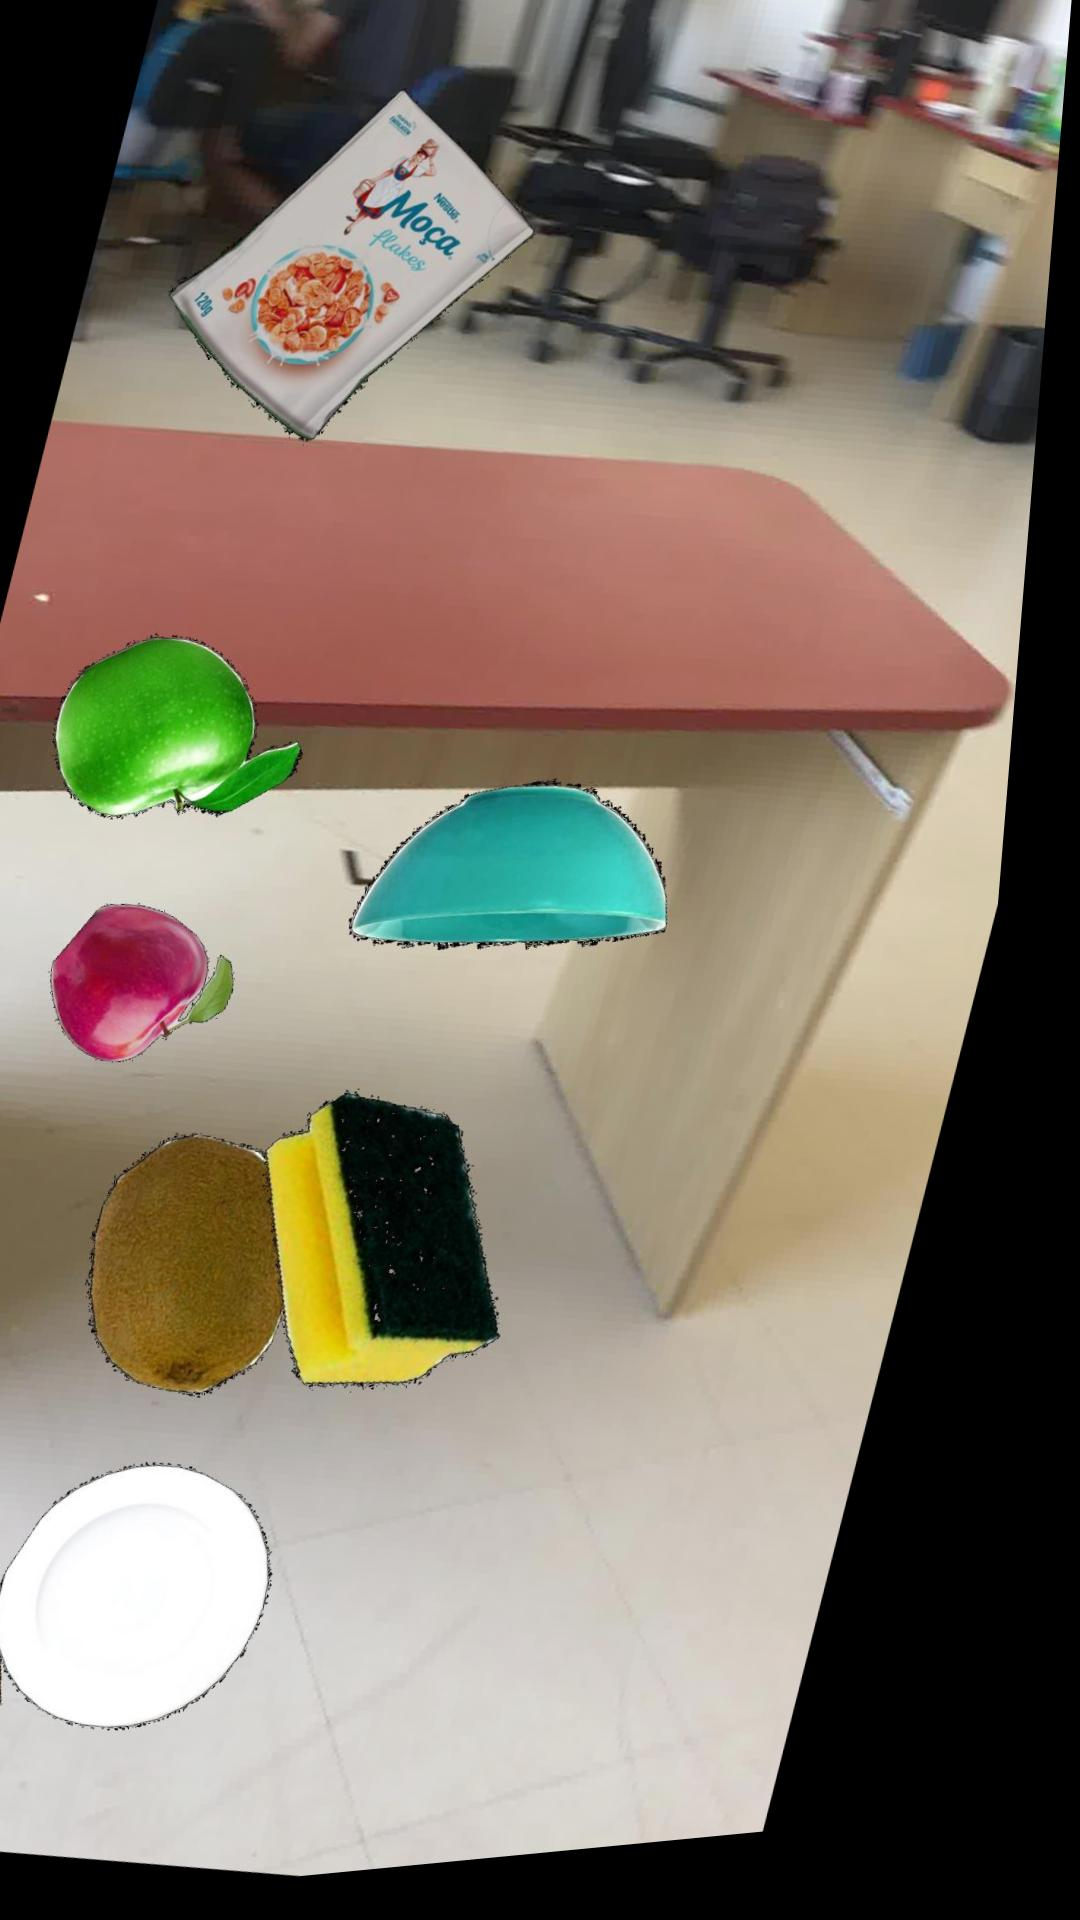apple: (69, 906, 252, 1064)
bowl: (367, 789, 686, 960)
corn flakes: (175, 96, 541, 446)
green apple: (66, 637, 318, 822)
kiwi: (112, 1137, 309, 1399)
plate: (21, 1465, 301, 1733)
sponge: (286, 1100, 525, 1395)
